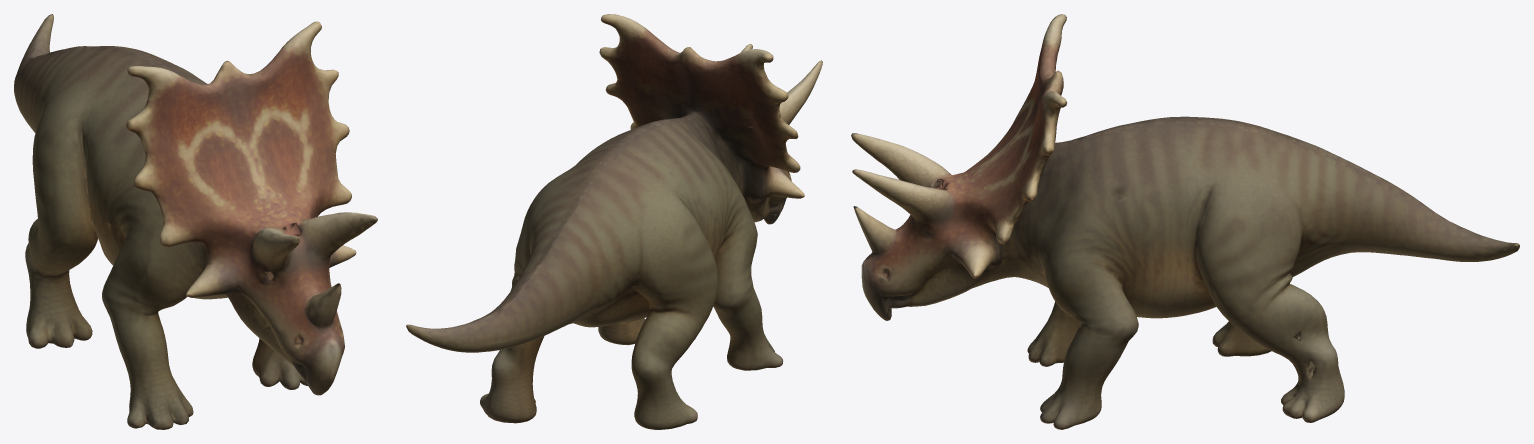
The picture shows the model from 3 angles, left to right: view 1: azimuth 30°, elevation 25°; view 2: azimuth 150°, elevation 25°; view 3: azimuth 270°, elevation 25°; orthographic projection. The views are drawn at different scales.
Parts seen in each view (by area): view 1: geometry_0; view 2: geometry_0; view 3: geometry_0.
Part boxes in pixels (<box>): geometry_0: <box>14,14,377,429</box>; geometry_0: <box>406,14,822,429</box>; geometry_0: <box>851,14,1519,429</box>.
Size of the model in its own units: 2.36 by 3.73 by 6.8.
1 material, 1 textured.
